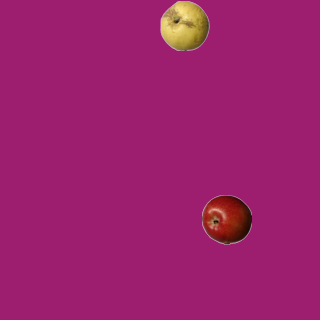Apple Braeburn: (201, 194, 251, 244)
Apple Golden 1: (159, 0, 209, 50)
